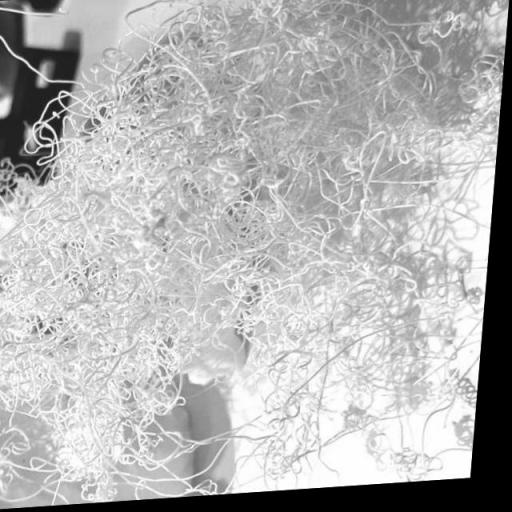spaghetti_and_stringing: (142, 0, 351, 214), (282, 199, 481, 367), (328, 37, 501, 196), (56, 365, 192, 498), (120, 232, 267, 354), (14, 208, 120, 323), (349, 369, 447, 492), (44, 96, 145, 210), (264, 365, 353, 475), (0, 319, 81, 410), (0, 434, 57, 494)
